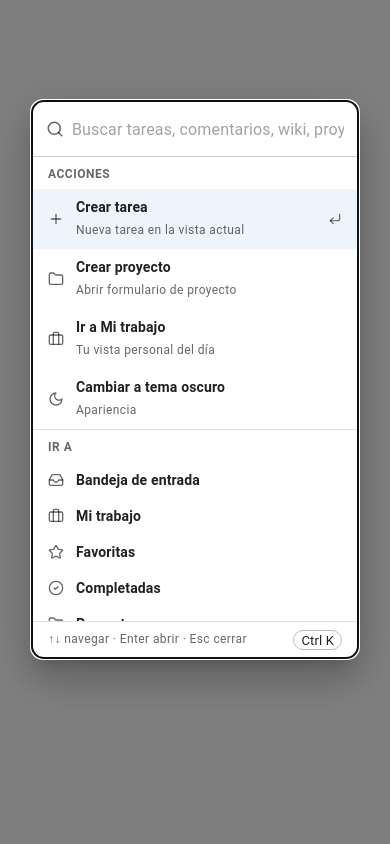
Test: CommandPalette › muestra resultados agrupados por tipo
This screenshot has width=390, height=844.
Type "oauth" into the field with placeholder "Buscar tareas, comentarios, wiki, proyectos…" at (215, 129), box [72,101,358,157]
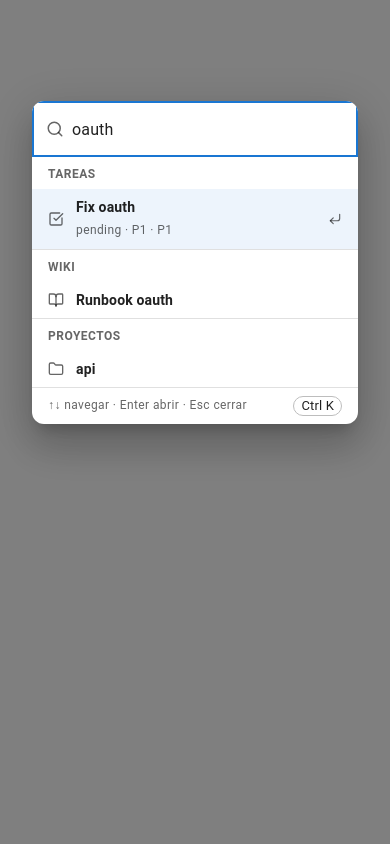
Check: the text "Fix oauth" is shown, box [76,199,135,215]
Check: the text "Runbook oauth" is shown, box [76,292,173,308]
Check: the text "api" is shown, box [76,361,96,377]
